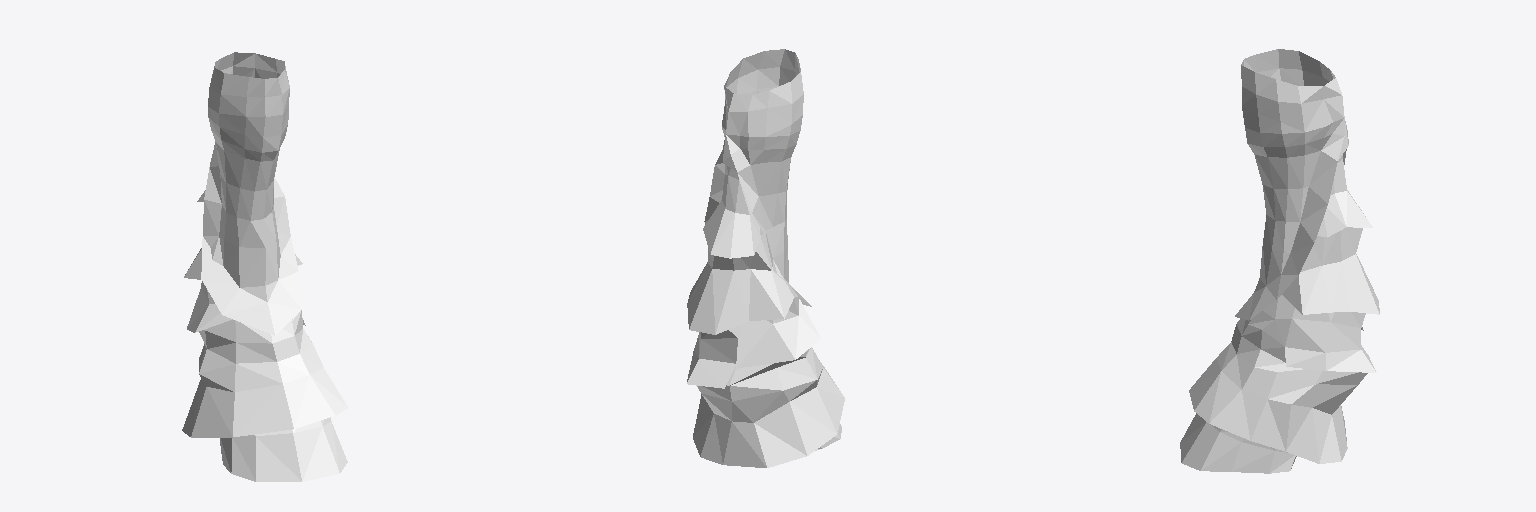
Rendered from leg_front_lower_right.obj.
3 renders of one model, left to right at view 1: azimuth 30°, elevation 25°; view 2: azimuth 150°, elevation 25°; view 3: azimuth 270°, elevation 25°, orthographic.
Parts seen in each view (by area): view 1: horse; view 2: horse; view 3: horse.
Boxes of the visible parts, <box> form: horse: <box>182,52,347,481</box>; horse: <box>687,49,844,467</box>; horse: <box>1180,49,1379,473</box>.
Bounding box in the file's own units: 10.15 × 27.74 × 13.05.